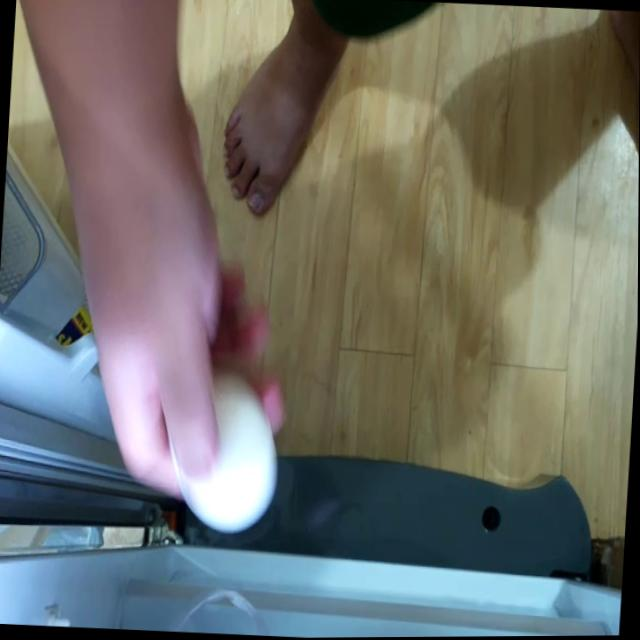egg: (170, 380, 283, 532)
